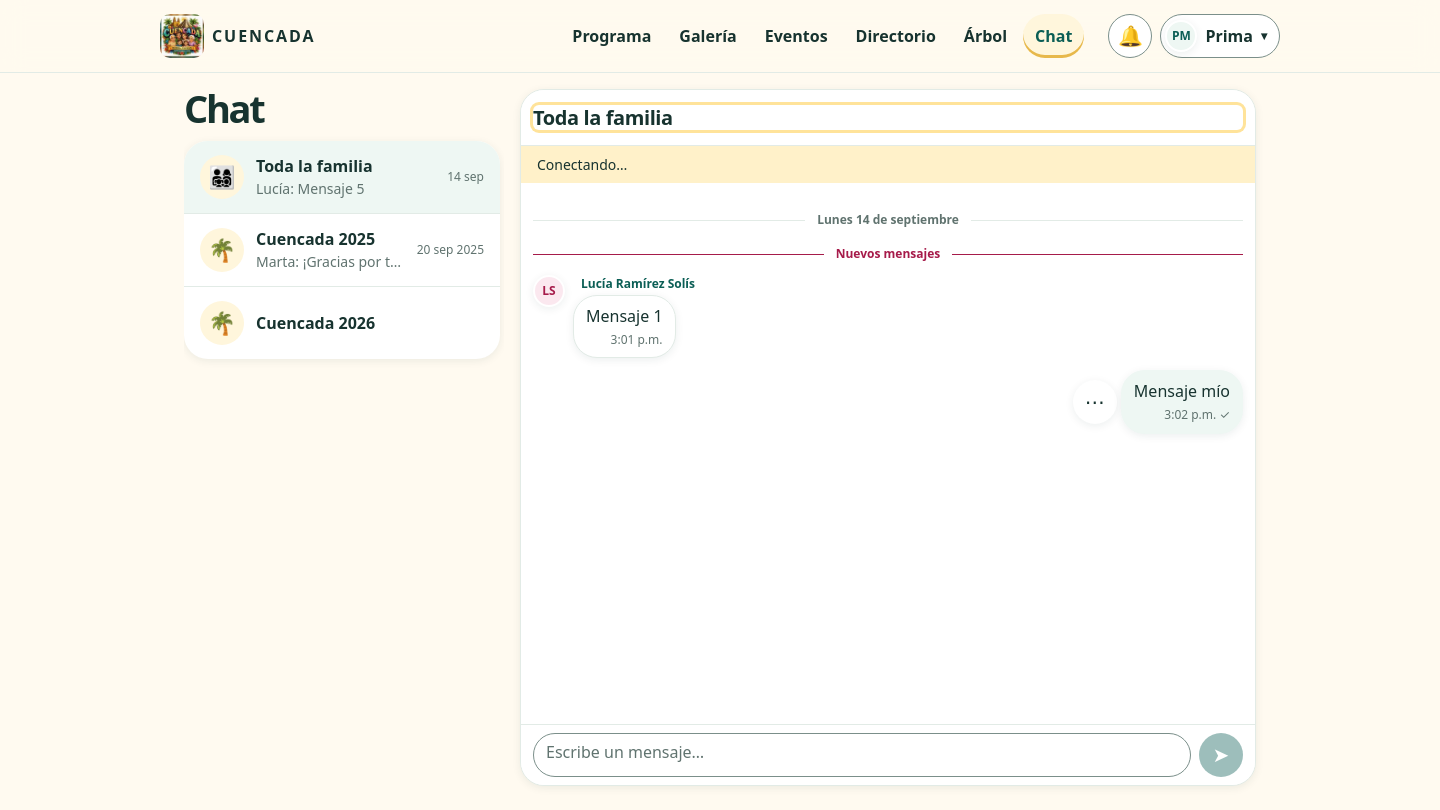
Scenario: ChatPage › deletes my message after confirming, and only offers delete on others' messages to admins
Expected: the text "Mensaje mío" is shown, [1134,380,1230,402]
Click the button named "Opciones del mensaje de Tú". click: [1095, 402]
box: [1073,380,1117,424]
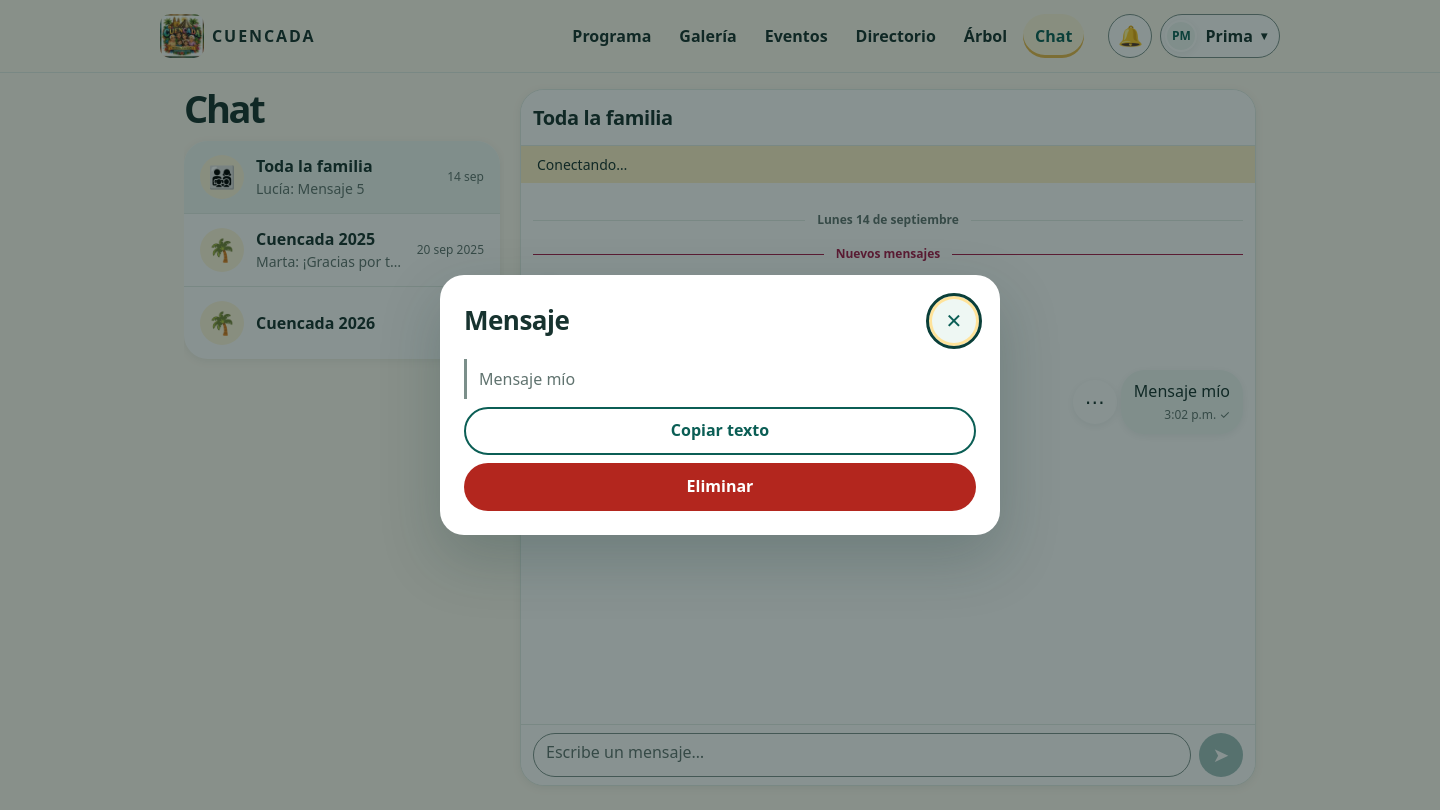
Click the button "Eliminar". click: [720, 487]
box: [464,463,976,511]
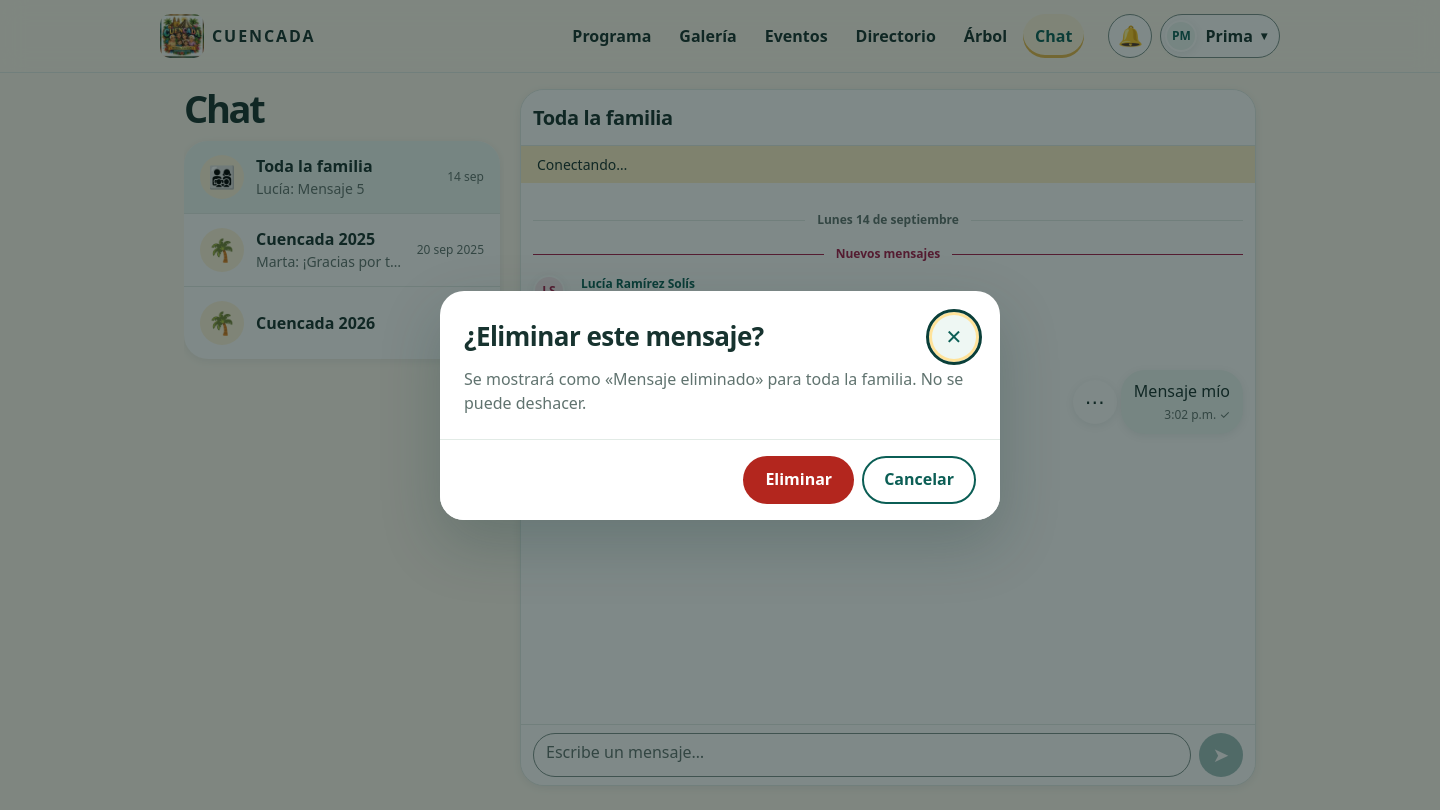
Click the button "Eliminar". click: [799, 480]
box: [743,456,854,504]
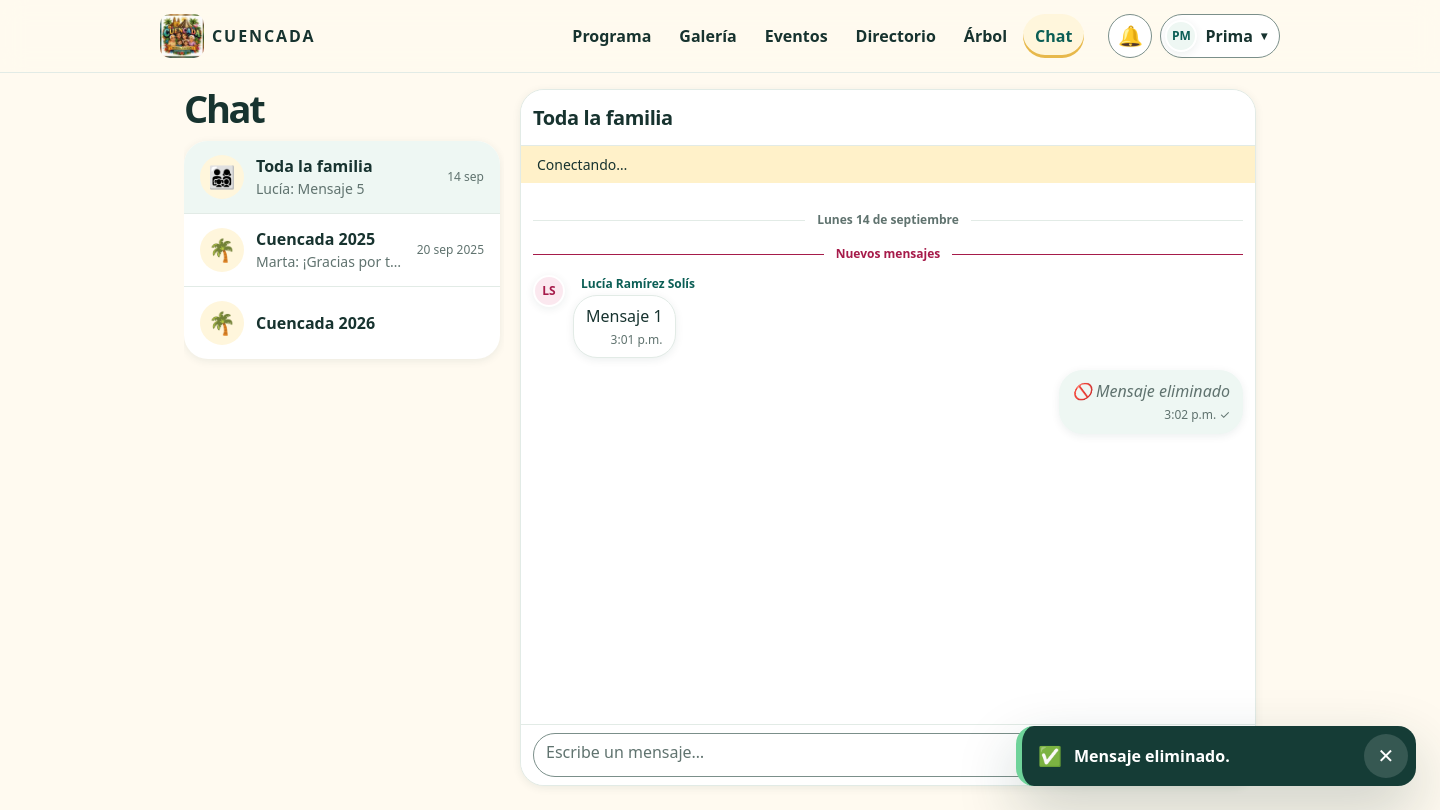
Now the text "🚫 Mensaje eliminado" is shown, box [1072,380,1230,402]
Now the text "Mensaje mío" is gone
